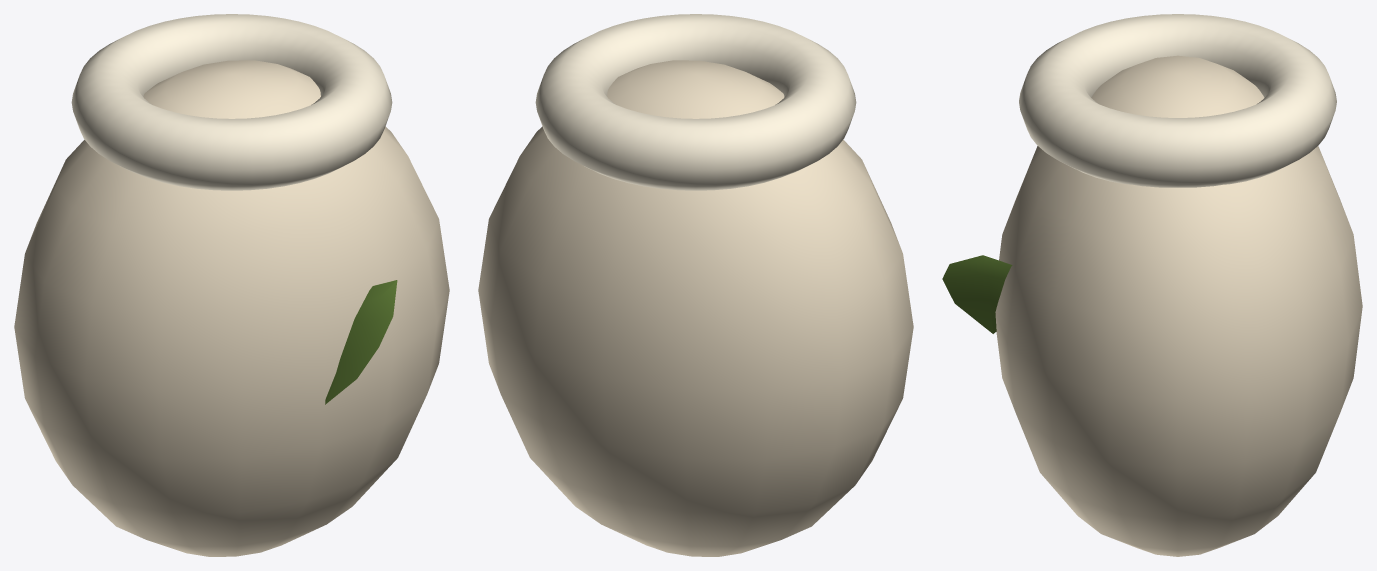
File: seed-sack.glb
3 views of the same model, side by side, from view 1: azimuth 30°, elevation 25°; view 2: azimuth 150°, elevation 25°; view 3: azimuth 270°, elevation 25° (orthographic).
Parts seen in each view (by area): view 1: seed_sack; view 2: seed_sack; view 3: seed_sack.
Boxes of the visible parts, x1,y1,x2,y2 form: seed_sack: (14,14,449,556); seed_sack: (478,14,913,556); seed_sack: (942,14,1362,556).
Bounding box in the file's own units: 0.44 × 0.5033 × 0.4096.
